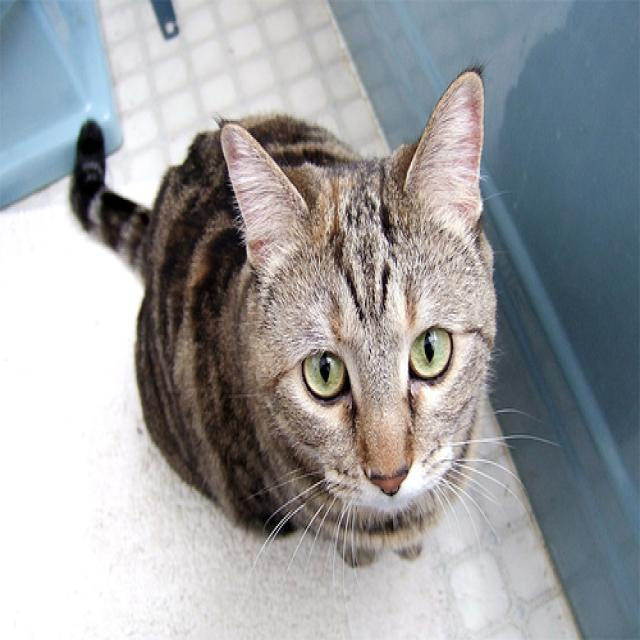cat: (68, 61, 561, 585)
